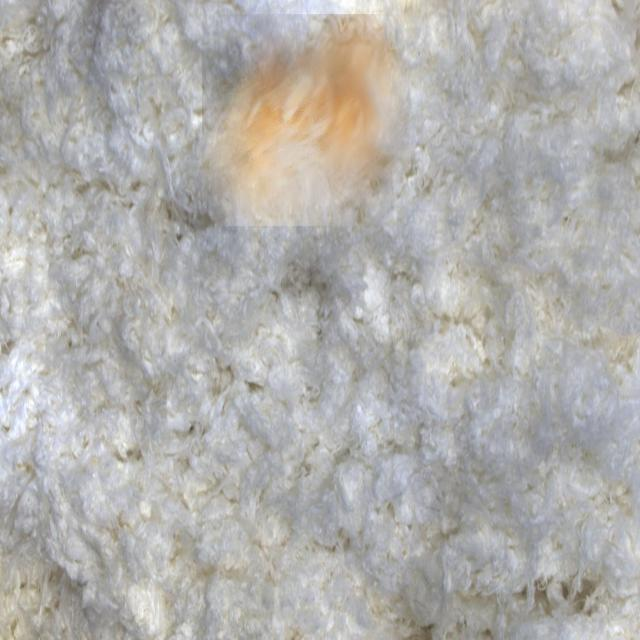dust: (202, 14, 409, 226)
